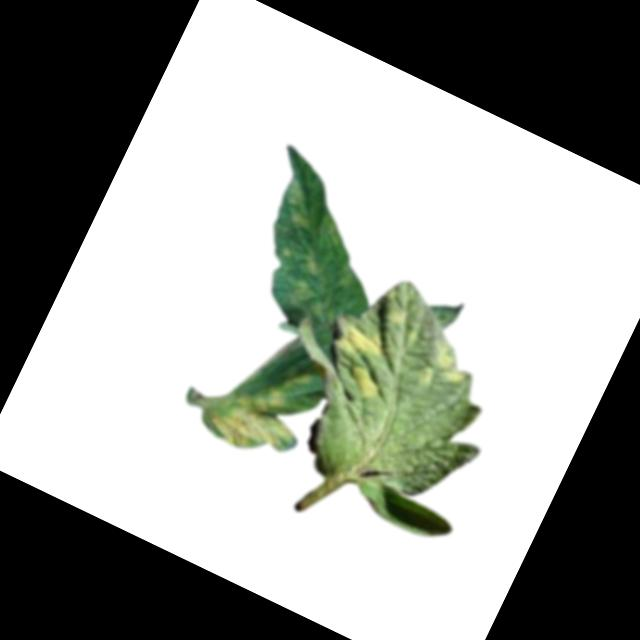Leaf_Mold: (206, 345, 319, 468), (415, 336, 475, 401), (270, 240, 328, 302), (273, 177, 329, 234), (331, 313, 390, 363), (342, 359, 390, 406)
